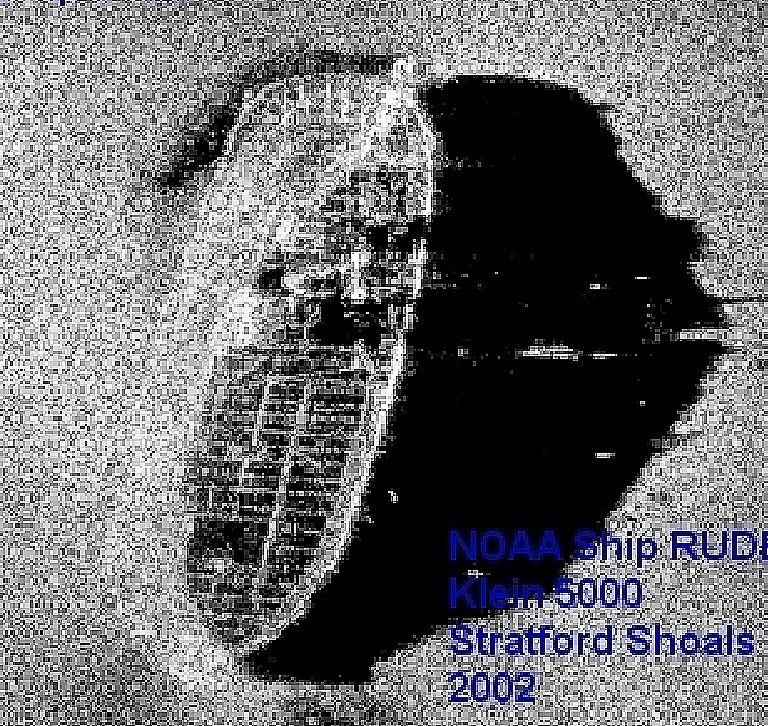ship: (101, 55, 444, 680)
